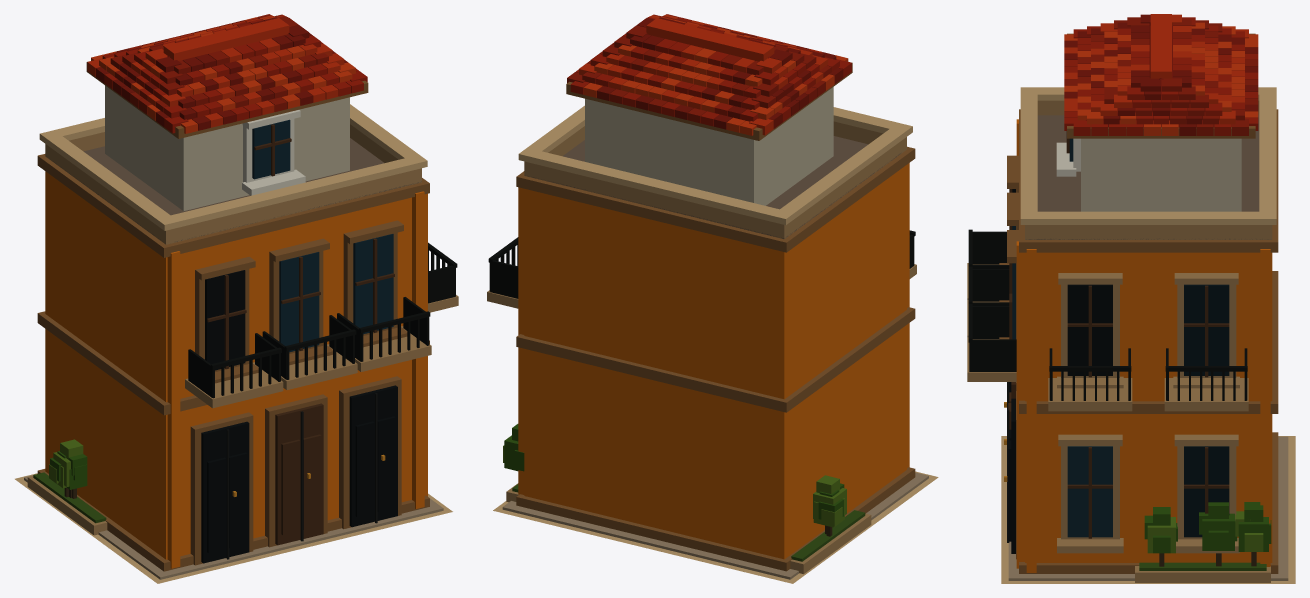
Rendered from SM_Mapa_000.fbx.
3 renders of one model, left to right at view 1: azimuth 30°, elevation 25°; view 2: azimuth 150°, elevation 25°; view 3: azimuth 270°, elevation 25°, orthographic. The views are drawn at different scales.
Visible parts, largest first — view 1: SM_Mapa_000; view 2: SM_Mapa_000; view 3: SM_Mapa_000.
Boxes of the visible parts, box(x1,y1,x2,y2) form: SM_Mapa_000: box(15, 14, 458, 583); SM_Mapa_000: box(487, 14, 938, 583); SM_Mapa_000: box(967, 14, 1295, 583).
Bounding box in the file's own units: 8 × 6.78 × 10.64.
